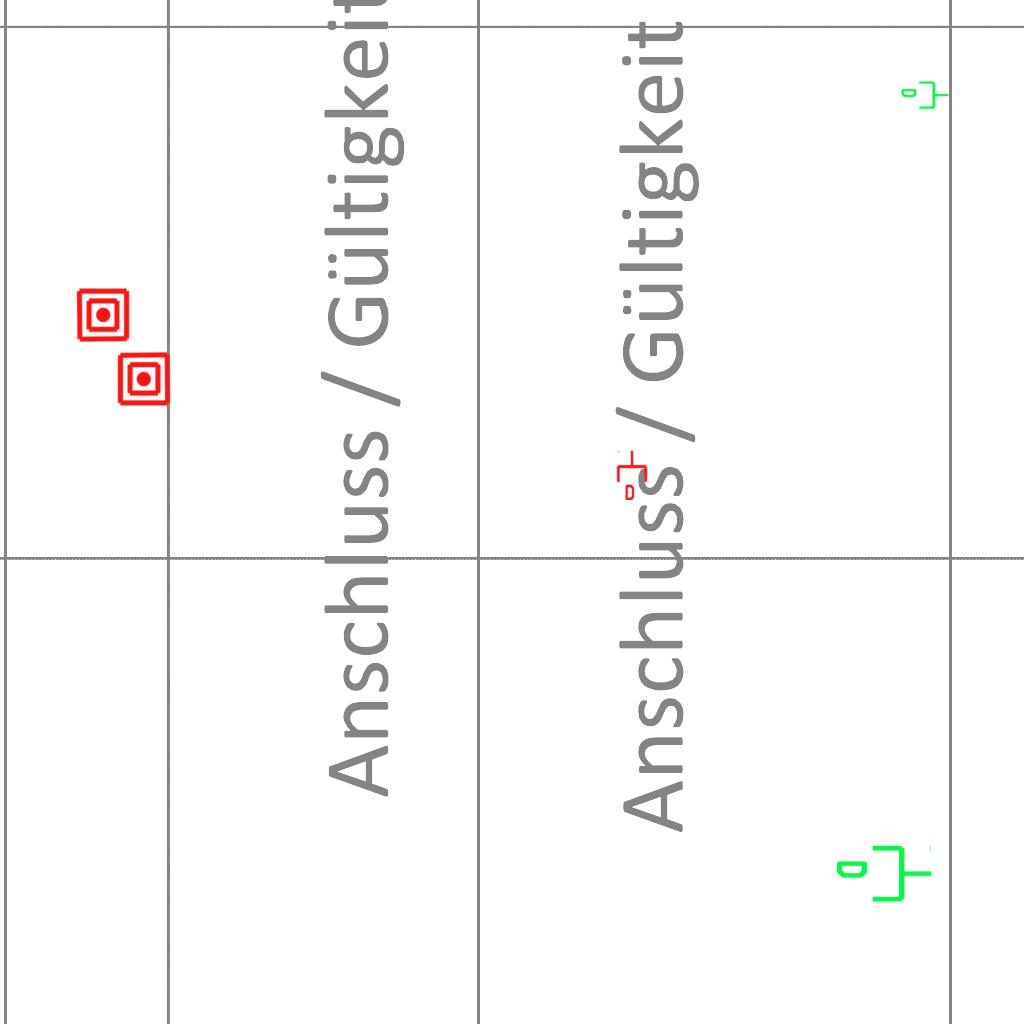Datenanschluss_einfach: (834, 841, 934, 910), (615, 450, 649, 500), (900, 79, 950, 113)
NAM-Nichtautomatischer_Melder: (116, 351, 172, 407), (75, 287, 131, 343)
